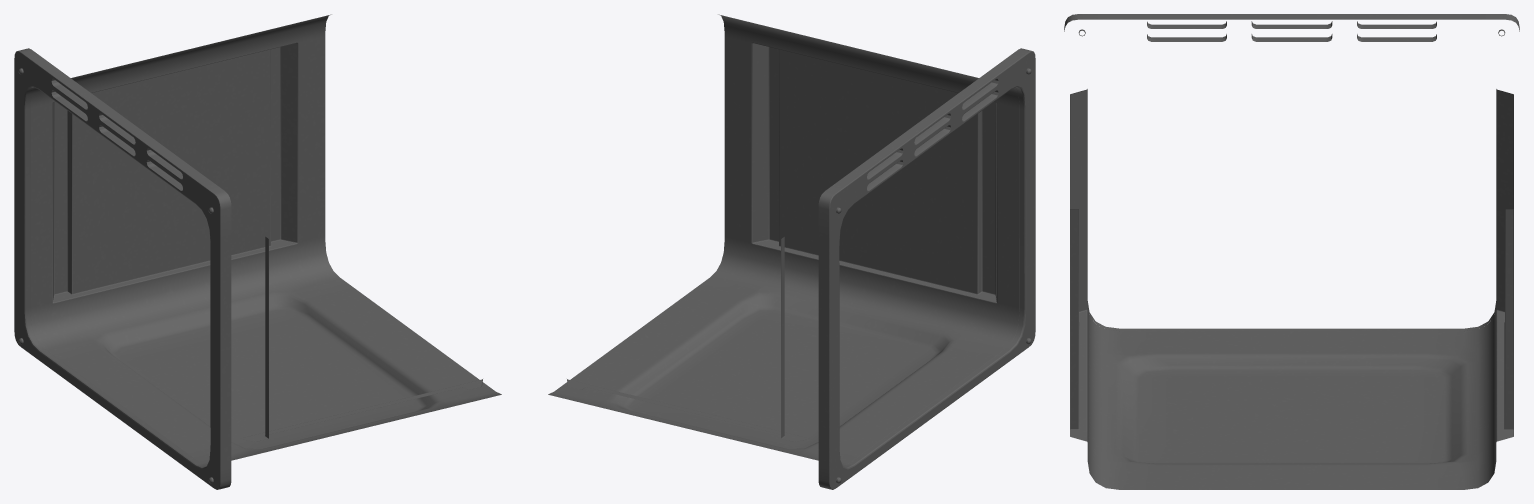
File: baking_22.glb
3 views of the same model, side by side, from view 1: azimuth 30°, elevation 25°; view 2: azimuth 150°, elevation 25°; view 3: azimuth 270°, elevation 25° (orthographic). The views are drawn at different scales.
Visible parts, largest first — view 1: StaticMeshActor_54_003; view 2: StaticMeshActor_54_003; view 3: StaticMeshActor_54_003.
Part boxes in pixels (<box>): StaticMeshActor_54_003: <box>14,14,501,489</box>; StaticMeshActor_54_003: <box>548,14,1035,489</box>; StaticMeshActor_54_003: <box>1064,14,1519,489</box>.
Size of the model in its own units: 0.4714 by 0.4373 by 0.5542.
1 material, 1 textured.
